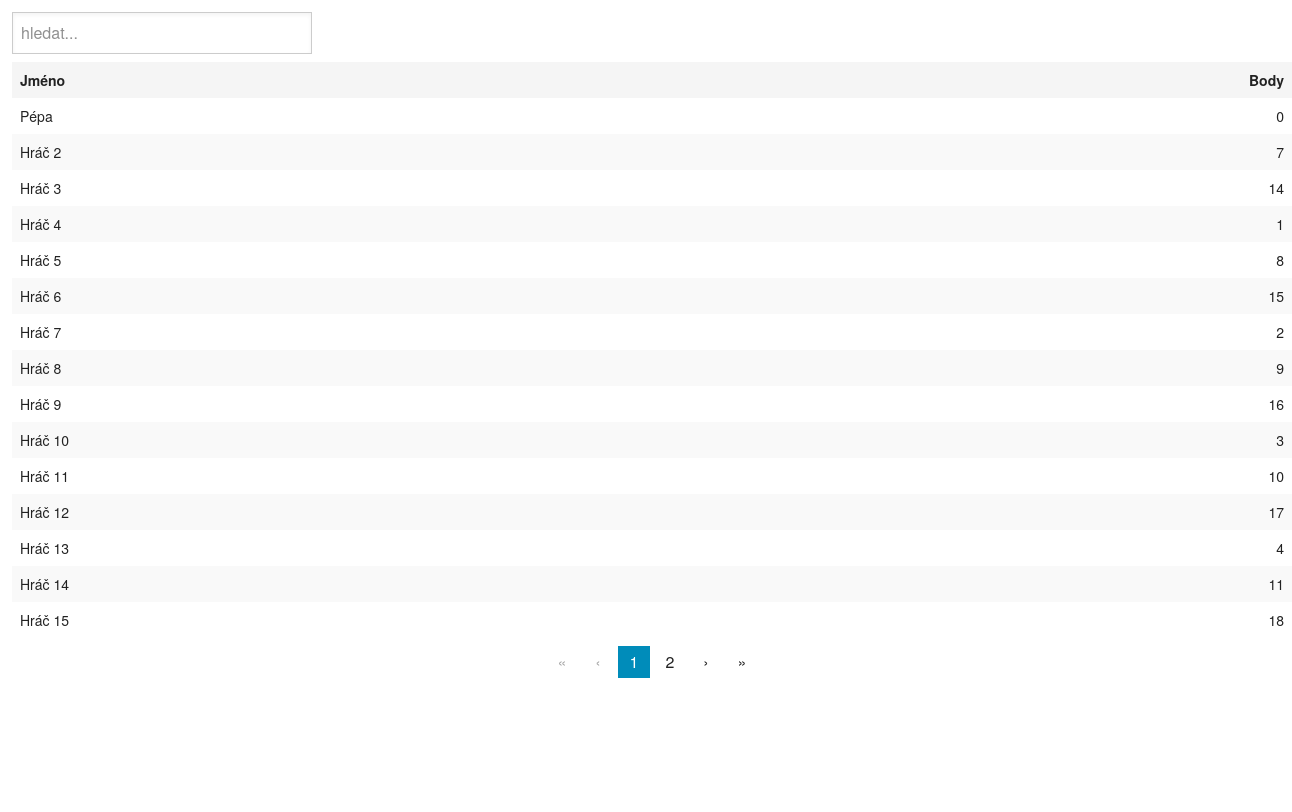
Test case: clicking a desc-first header sorts desc and writes URL
Click the button "Body". click: click(1266, 80)
box: [1249,70,1284,90]
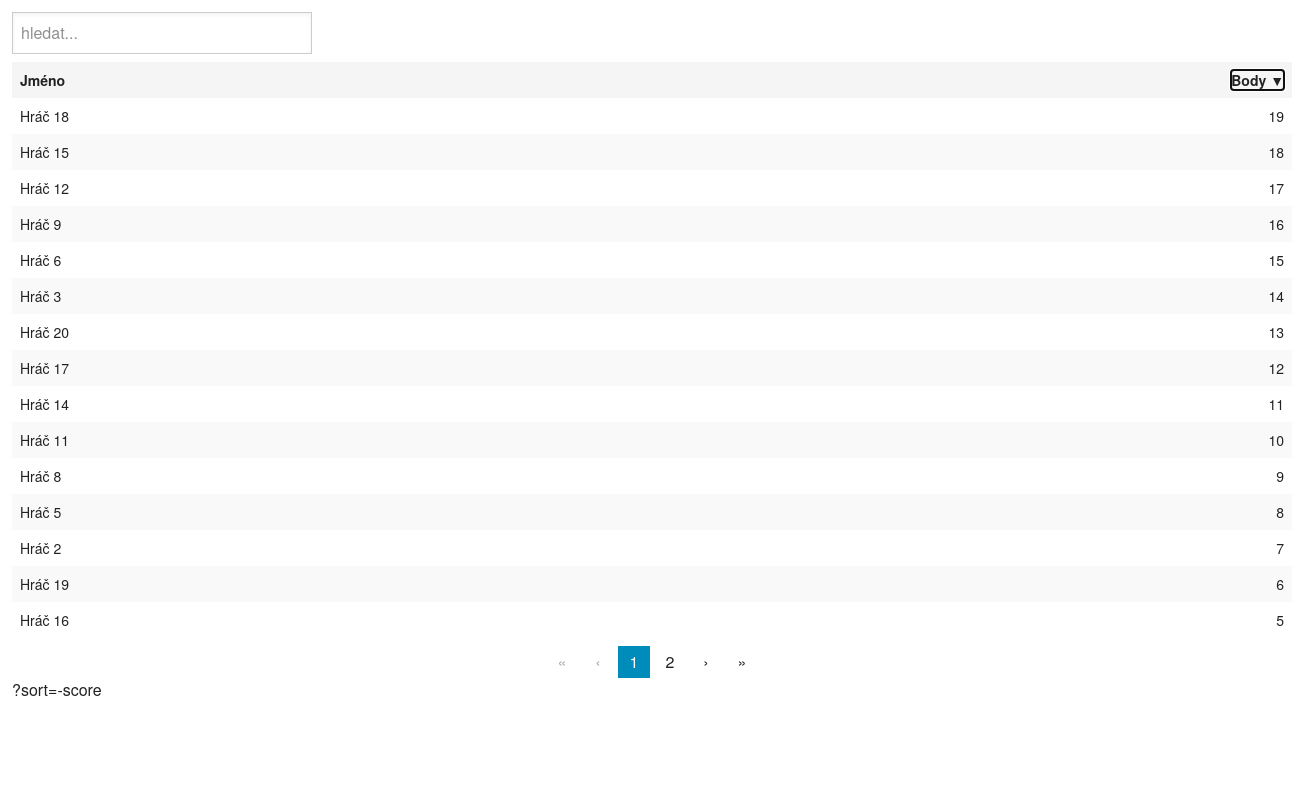
expect the text with test id "loc" shows "sort=-score": met, box [12,678,102,701]
expect the cell "19" is shown: met, box [634,98,1291,134]
